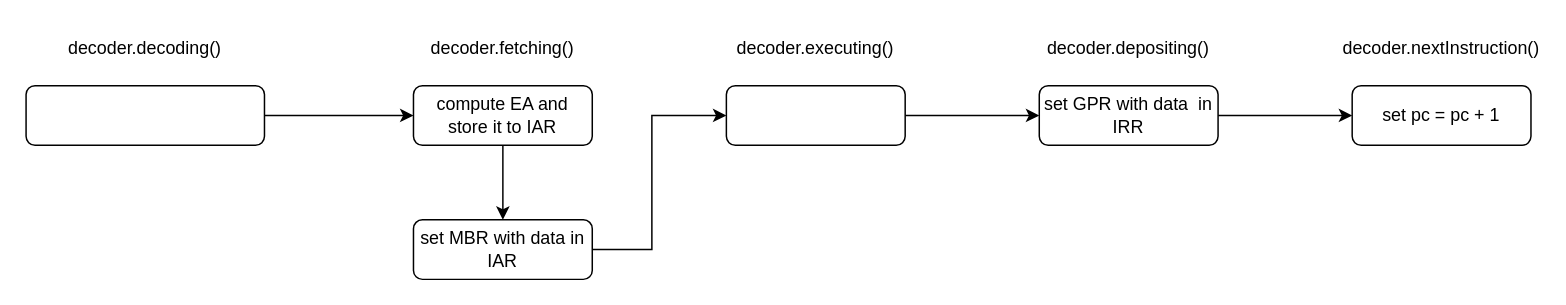
This 1566x305 diagram has some shape labels left out. The centre of each missing label's shape, as x and y in pixels:
"decode the instruction and opcode = 3" goes at pixel 144 114.
"set IRR with data in MBR" goes at pixel 815 114.
